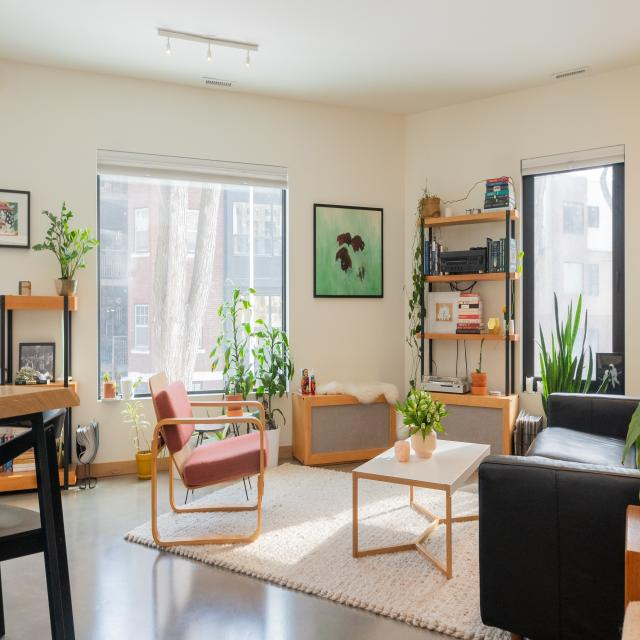floor: (60, 474, 459, 640), (0, 552, 53, 640), (0, 487, 41, 537), (186, 477, 244, 503), (156, 470, 174, 518), (313, 460, 369, 473), (457, 466, 481, 494), (173, 478, 188, 505), (291, 457, 303, 465), (244, 476, 248, 480)
wall: (0, 58, 405, 459), (405, 65, 640, 397), (71, 242, 158, 478), (431, 393, 510, 455), (12, 309, 64, 384), (514, 340, 547, 430), (432, 221, 506, 252), (471, 280, 506, 335), (481, 340, 506, 393), (432, 339, 457, 376), (509, 394, 519, 456), (465, 340, 481, 377), (191, 406, 223, 418), (457, 340, 467, 377), (188, 393, 223, 401), (515, 280, 520, 334), (248, 406, 263, 423), (239, 423, 248, 436), (246, 394, 257, 401), (242, 406, 248, 412)
